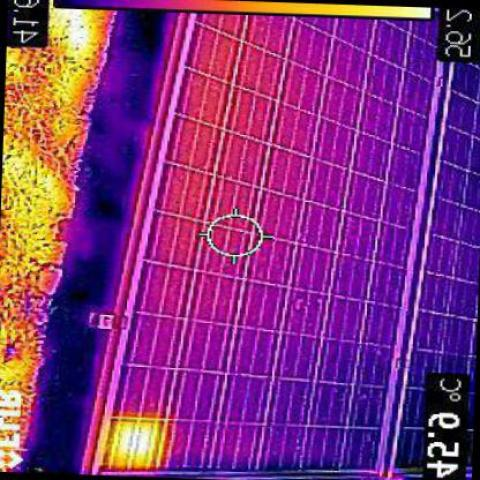fault: (112, 421, 153, 470)
